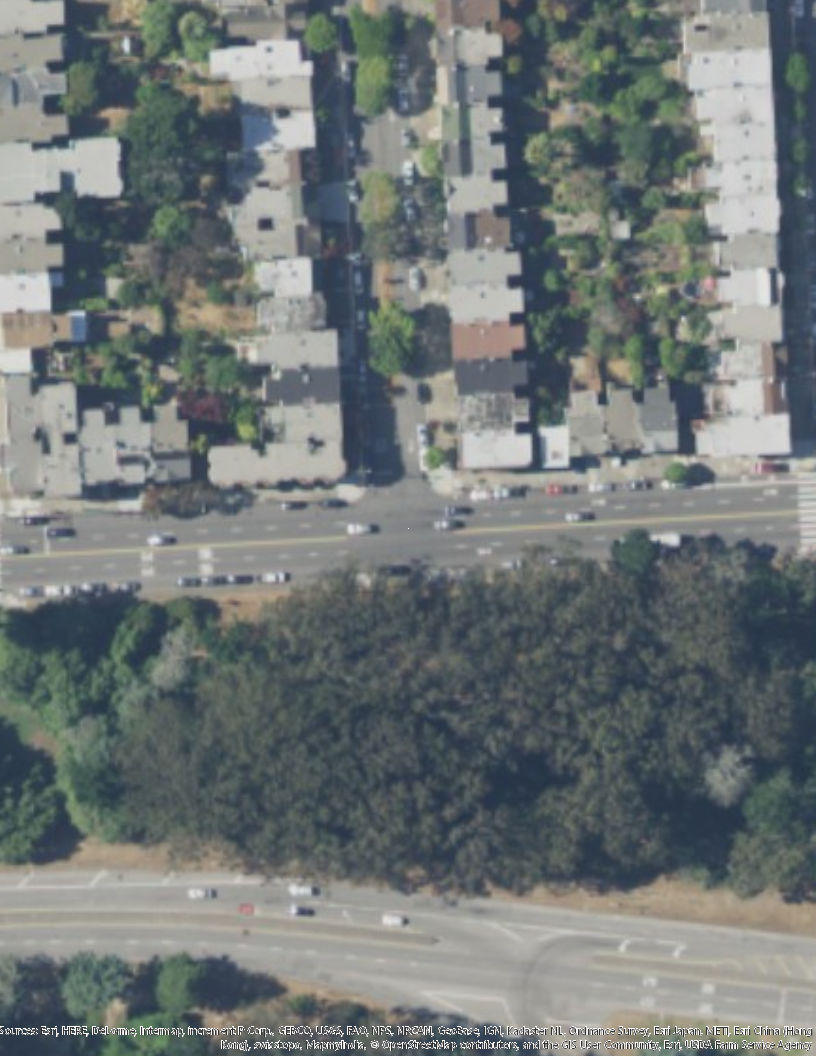zebracross: (797, 469, 816, 550)
